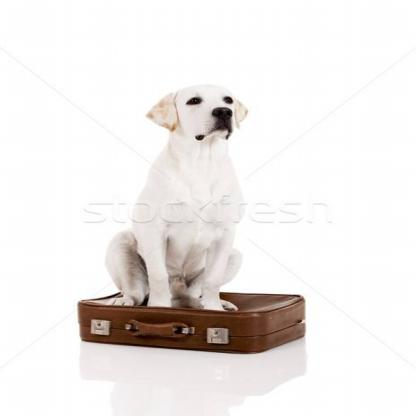Labarador Retriever: (95, 84, 250, 310)
